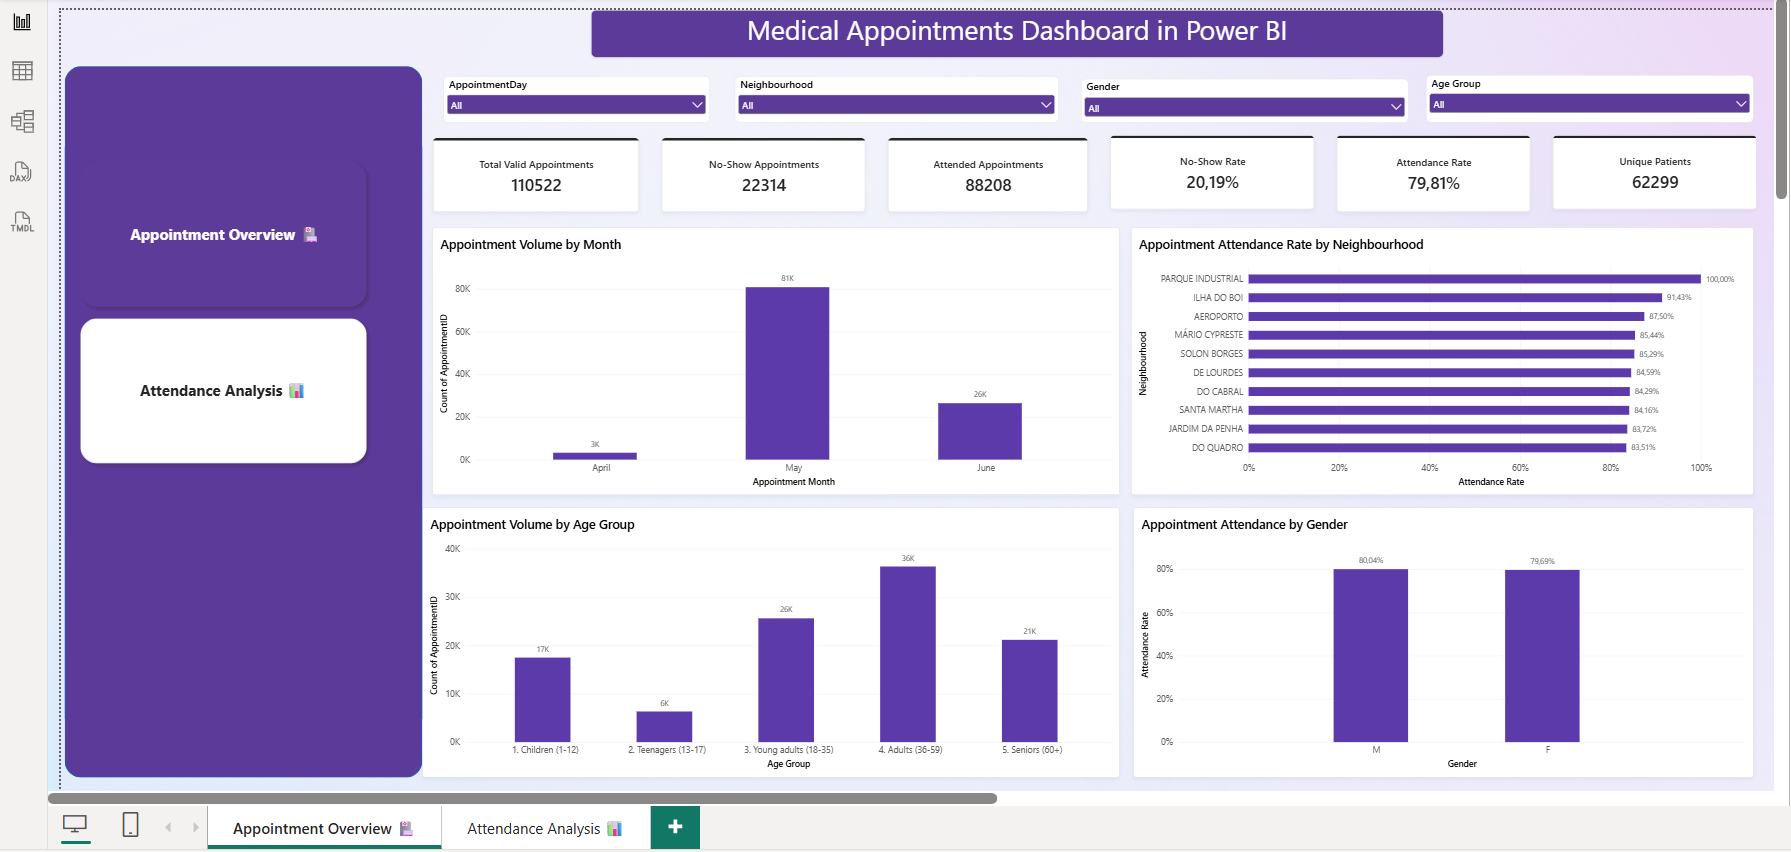

The page's visual inventory and layout, read from the dashboard file:
{"tool":"powerbi","page":{"name":"Appointment Overview 🏥","canvas":[5000,5000],"ordinal":0},"visuals":[{"type":"shape","box":[6,90,536,1138],"z":0,"group":"g2"},{"type":"cardVisual","fields":{"Data":["medical_appointments cleaned_medical_appointments.Total Valid Appointments"]},"box":[594,204,332,120],"z":0},{"type":"cardVisual","fields":{"Data":["medical_appointments cleaned_medical_appointments.Missed Appointments"]},"box":[959.9,204,328,120],"z":1000},{"type":"cardVisual","fields":{"Data":["medical_appointments cleaned_medical_appointments.Attended Appointments"]},"box":[1321.8,204,322,120],"z":2000},{"type":"cardVisual","fields":{"Data":["medical_appointments cleaned_medical_appointments.No-Show Rate"]},"box":[1677.8,200,328,120],"z":3000},{"type":"cardVisual","fields":{"Data":["medical_appointments cleaned_medical_appointments.Attendance Rate"]},"box":[2039.7,200,312,124],"z":4000},{"type":"clusteredColumnChart","title":"Appointment Volume by Month","fields":{"Category":["medical_appointments cleaned_medical_appointments.Appointment Month"],"Y":["CountNonNull(medical_appointments cleaned_medical_appointments.AppointmentID)"]},"box":[594,348,1100,428],"z":5000},{"type":"clusteredBarChart","title":"Appointment Attendance Rate by Neighbourhood","fields":{"Category":["medical_appointments cleaned_medical_appointments.Neighbourhood"],"Y":["medical_appointments cleaned_medical_appointments.Attendance Rate"]},"box":[1712.8,348.8,996,428],"z":6000},{"type":"clusteredColumnChart","title":"Appointment Volume by Age Group","fields":{"Category":["medical_appointments cleaned_medical_appointments.Age Group"],"Y":["CountNonNull(medical_appointments cleaned_medical_appointments.AppointmentID)"]},"box":[578.8,796.8,1116,432],"z":7000},{"type":"clusteredColumnChart","title":"Appointment Attendance by Gender","fields":{"Category":["medical_appointments cleaned_medical_appointments.Gender"],"Y":["medical_appointments cleaned_medical_appointments.Attendance Rate"]},"box":[1716,796,992,432],"z":8000},{"type":"cardVisual","fields":{"Data":["medical_appointments cleaned_medical_appointments.Unique Patients"]},"box":[2385.6,200,328,120],"z":9000},{"type":"textbox","box":[1964,16,12,88],"z":10000},{"type":"textbox","box":[3696,121,328,150],"z":11000},{"type":"textbox","box":[4034,121,328,150],"z":12000},{"type":"slicer","fields":{"Values":["medical_appointments cleaned_medical_appointments.AppointmentDay"]},"box":[612,106,426,74],"z":13000},{"type":"slicer","fields":{"Values":["medical_appointments cleaned_medical_appointments.Neighbourhood"]},"box":[1078,106,518,74],"z":14000},{"type":"slicer","fields":{"Values":["medical_appointments cleaned_medical_appointments.Gender"]},"box":[1632,110,524,70],"z":15000},{"type":"slicer","fields":{"Values":["medical_appointments cleaned_medical_appointments.Age Group"]},"box":[2184,104,524,76],"z":16000},{"type":"textbox","box":[2708,0,6,180],"z":17000},{"type":"textbox","box":[848,0,1364,76],"z":18000},{"type":"group","id":"g1","title":"Group 1","box":[6,90,536,1138],"z":19000},{"type":"group","id":"g2","title":"Group 2","box":[6,90,536,1138],"z":20501,"group":"g1"},{"type":"pageNavigator","box":[21,234,446,500],"z":21001,"group":"g2"}]}

Visuals, with their boxes on the page's 5000x5000 design canvas (x1, y1, x2, y2). These are canvas units, not pixel positions in the 1791x852 screenshot, which may show the page scaled, cropped or inside an application window:
shape: {"x1": 6, "y1": 90, "x2": 542, "y2": 1228}
cardVisual - medical_appointments cleaned_medical_appointments.Total Valid Appointments: {"x1": 594, "y1": 204, "x2": 926, "y2": 324}
cardVisual - medical_appointments cleaned_medical_appointments.Missed Appointments: {"x1": 960, "y1": 204, "x2": 1288, "y2": 324}
cardVisual - medical_appointments cleaned_medical_appointments.Attended Appointments: {"x1": 1322, "y1": 204, "x2": 1644, "y2": 324}
cardVisual - medical_appointments cleaned_medical_appointments.No-Show Rate: {"x1": 1678, "y1": 200, "x2": 2006, "y2": 320}
cardVisual - medical_appointments cleaned_medical_appointments.Attendance Rate: {"x1": 2040, "y1": 200, "x2": 2352, "y2": 324}
"Appointment Volume by Month" clusteredColumnChart: {"x1": 594, "y1": 348, "x2": 1694, "y2": 776}
"Appointment Attendance Rate by Neighbourhood" clusteredBarChart: {"x1": 1713, "y1": 349, "x2": 2709, "y2": 777}
"Appointment Volume by Age Group" clusteredColumnChart: {"x1": 579, "y1": 797, "x2": 1695, "y2": 1229}
"Appointment Attendance by Gender" clusteredColumnChart: {"x1": 1716, "y1": 796, "x2": 2708, "y2": 1228}
cardVisual - medical_appointments cleaned_medical_appointments.Unique Patients: {"x1": 2386, "y1": 200, "x2": 2714, "y2": 320}
textbox: {"x1": 1964, "y1": 16, "x2": 1976, "y2": 104}
textbox: {"x1": 3696, "y1": 121, "x2": 4024, "y2": 271}
textbox: {"x1": 4034, "y1": 121, "x2": 4362, "y2": 271}
slicer - medical_appointments cleaned_medical_appointments.AppointmentDay: {"x1": 612, "y1": 106, "x2": 1038, "y2": 180}
slicer - medical_appointments cleaned_medical_appointments.Neighbourhood: {"x1": 1078, "y1": 106, "x2": 1596, "y2": 180}
slicer - medical_appointments cleaned_medical_appointments.Gender: {"x1": 1632, "y1": 110, "x2": 2156, "y2": 180}
slicer - medical_appointments cleaned_medical_appointments.Age Group: {"x1": 2184, "y1": 104, "x2": 2708, "y2": 180}
textbox: {"x1": 2708, "y1": 0, "x2": 2714, "y2": 180}
textbox: {"x1": 848, "y1": 0, "x2": 2212, "y2": 76}
"Group 1" group: {"x1": 6, "y1": 90, "x2": 542, "y2": 1228}
"Group 2" group: {"x1": 6, "y1": 90, "x2": 542, "y2": 1228}
pageNavigator: {"x1": 21, "y1": 234, "x2": 467, "y2": 734}
